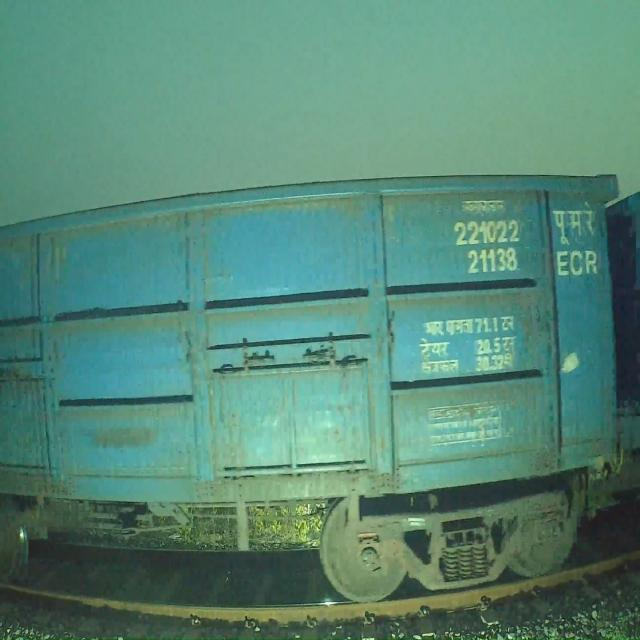WAgon-uic: (0, 171, 620, 600), (574, 192, 640, 462)
uic: (452, 215, 524, 278)
